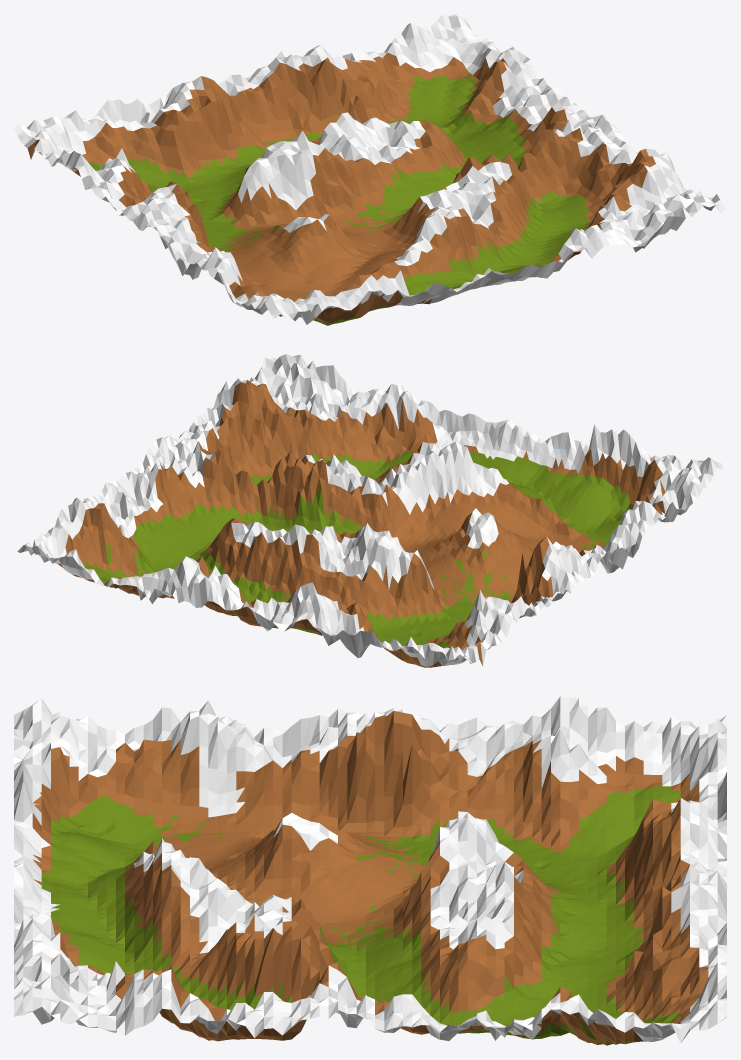
Rendered from Terrain.glb.
The picture shows the model from 3 angles, top to bottom: view 1: azimuth 30°, elevation 25°; view 2: azimuth 150°, elevation 25°; view 3: azimuth 270°, elevation 25°; orthographic projection. The views are drawn at different scales.
Visible parts, largest first — view 1: terrain; view 2: terrain; view 3: terrain.
Part boxes in pixels (x1,y1,x2,y2): terrain: (14,14,726,325); terrain: (15,354,726,667); terrain: (14,696,726,1045).
Size of what is drawn, in the model's own units: 100 by 16.32 by 100.
